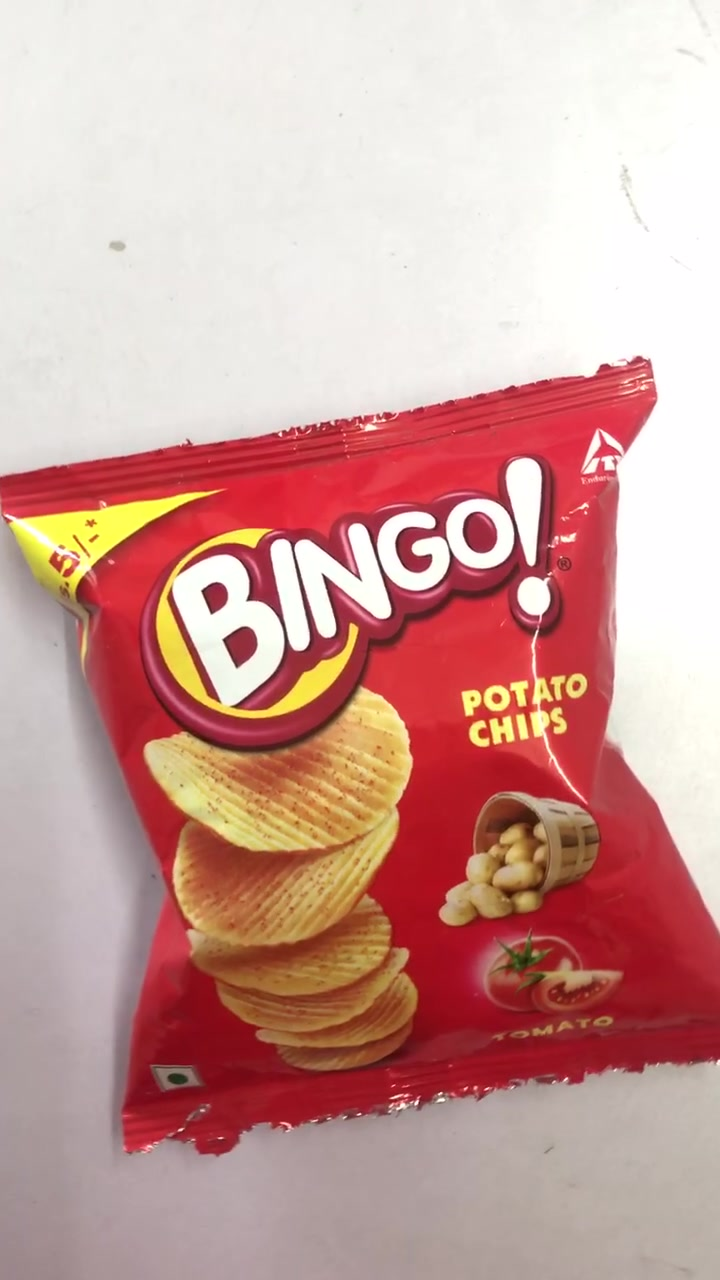Bingo: (13, 385, 720, 1104)
